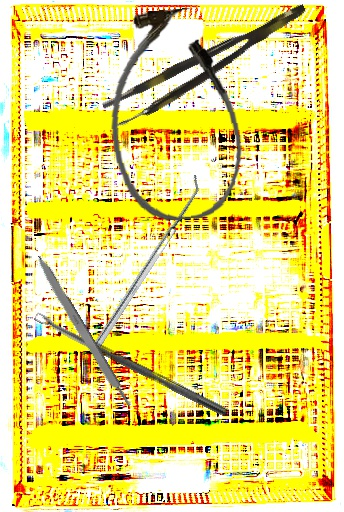Cannula: (100, 4, 250, 225)
Scalpel Handle: (32, 253, 133, 411)
Spatula Surgical: (87, 174, 208, 348)
Surgical Spoon: (33, 310, 230, 418)
Tissue Forceps: (101, 0, 316, 132)
